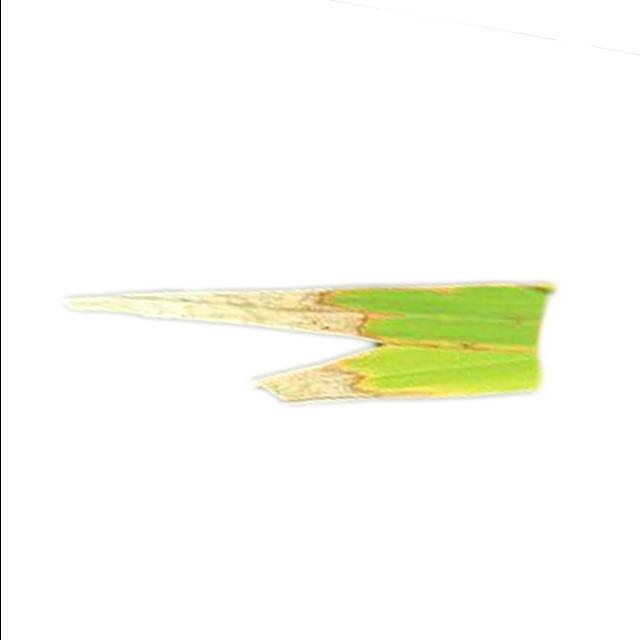Leaf blast: (21, 236, 616, 469)
